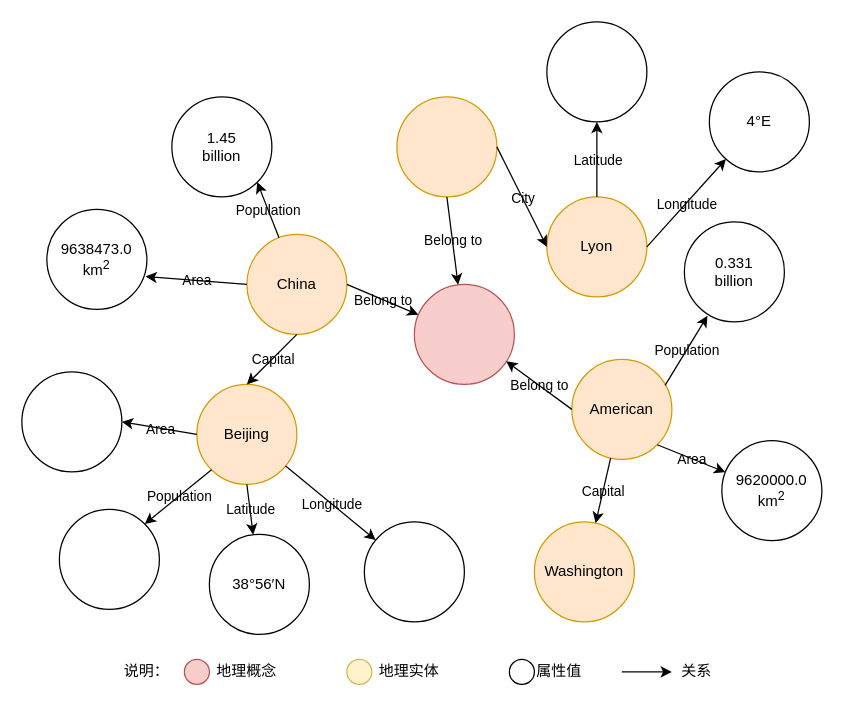
This 844x713 diagram has some shape labels left out. The shapes that lost their labels are listed below. From the top down, each one's centre as x and y in pixels, then its label:
At (x=596, y=71): "47°N".
At (x=446, y=146): "France".
At (x=463, y=333): "Country".
At (x=71, y=421): "963.8473 km 2".
At (x=108, y=558): "21.886 million".
At (x=413, y=571): "116°20′E".
